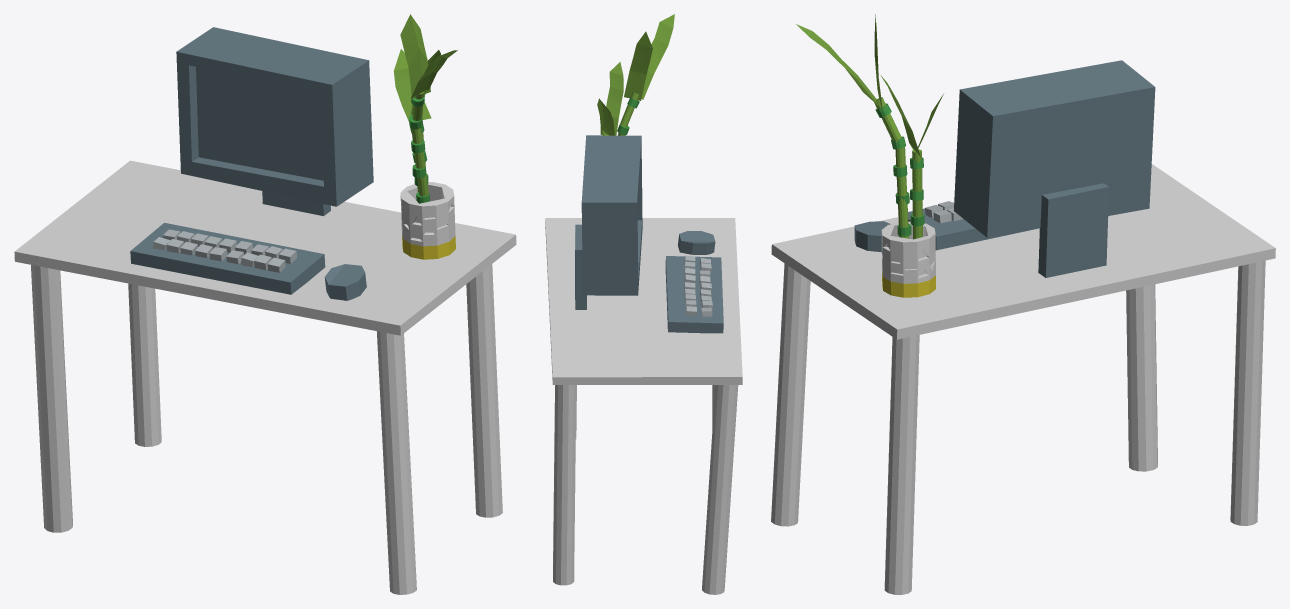
File: joshdesk.glb
3 views of the same model, side by side, from view 1: azimuth 30°, elevation 25°; view 2: azimuth 150°, elevation 25°; view 3: azimuth 270°, elevation 25° (orthographic). The views are drawn at different scales.
Parts seen in each view (by area): view 1: node_MeshObject-1849146752-PolyPaper16; view 2: node_MeshObject-1849146752-PolyPaper16; view 3: node_MeshObject-1849146752-PolyPaper16.
Boxes of the visible parts, bbox=[...] form: node_MeshObject-1849146752-PolyPaper16: bbox=[14, 14, 516, 594]; node_MeshObject-1849146752-PolyPaper16: bbox=[545, 14, 742, 594]; node_MeshObject-1849146752-PolyPaper16: bbox=[771, 14, 1275, 594].
Bounding box in the file's own units: 0.7247 × 1.03 × 0.8381.
